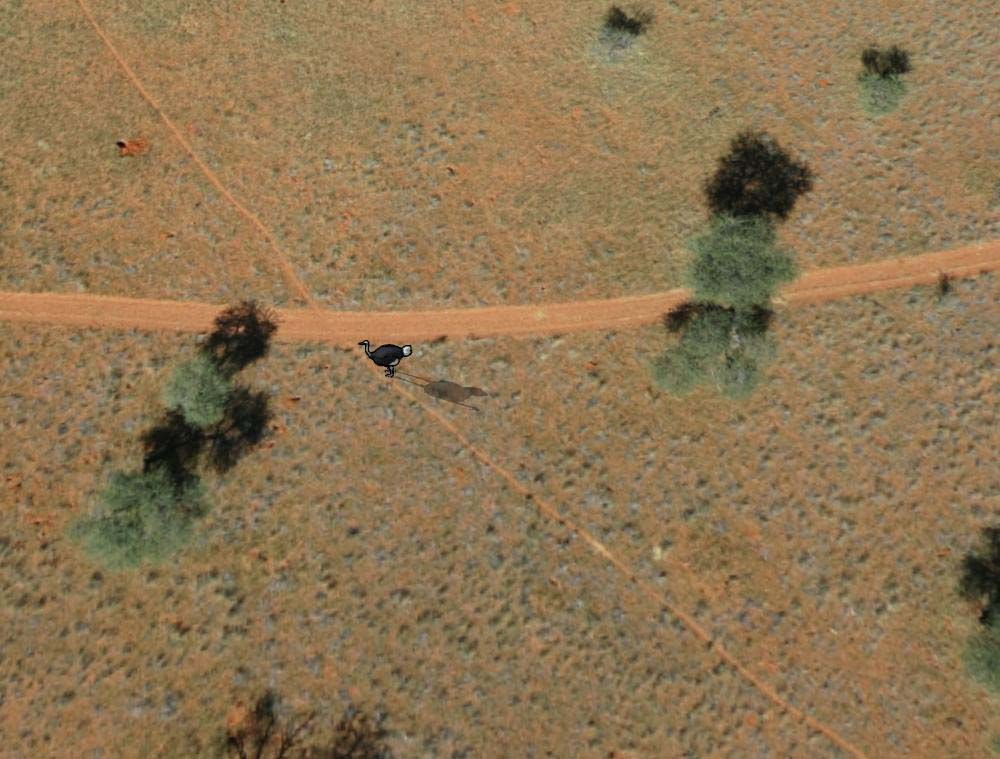springbok: (356, 337, 416, 381)
